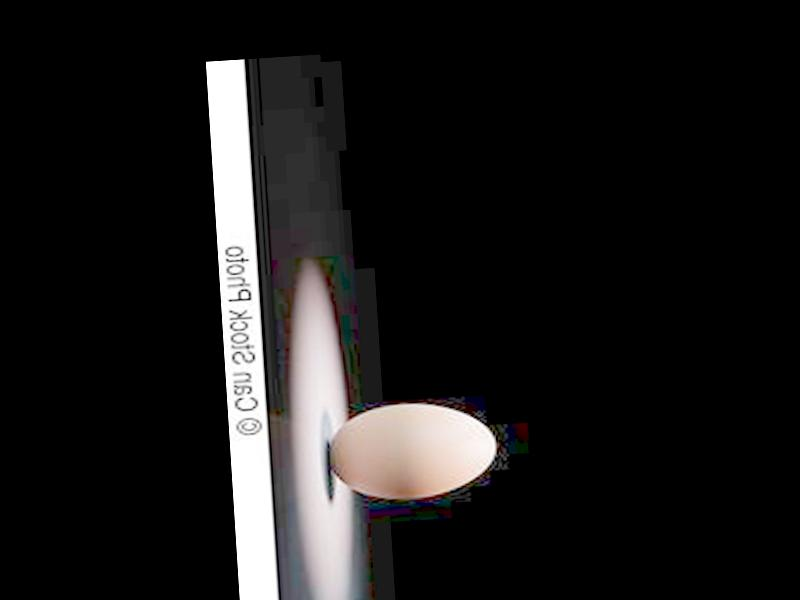Eggs: (324, 398, 498, 506)
